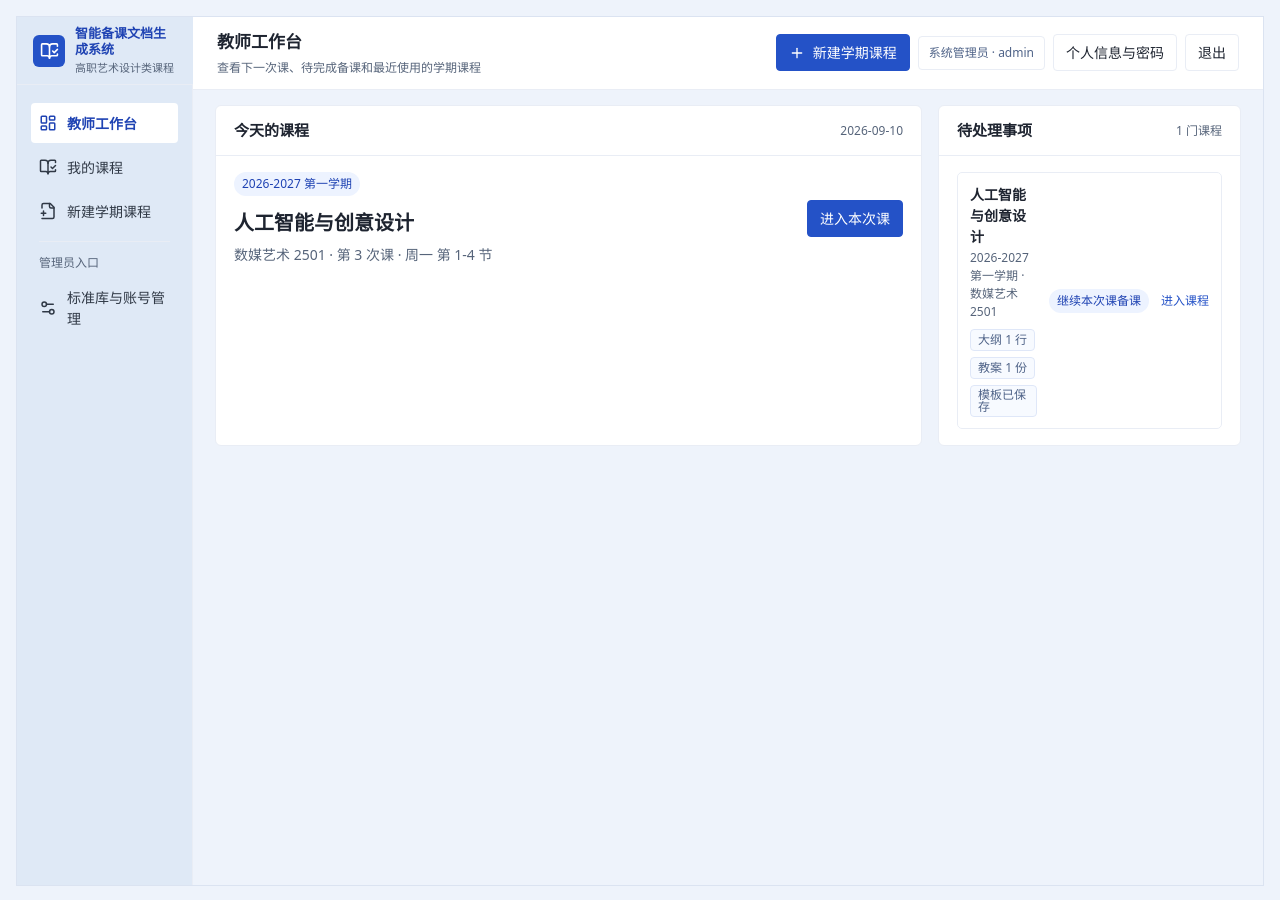
Test case: App › changes the current user's password
Click the button "个人信息与密码". click: coordinates (1115, 53)
box: [1053, 34, 1177, 71]
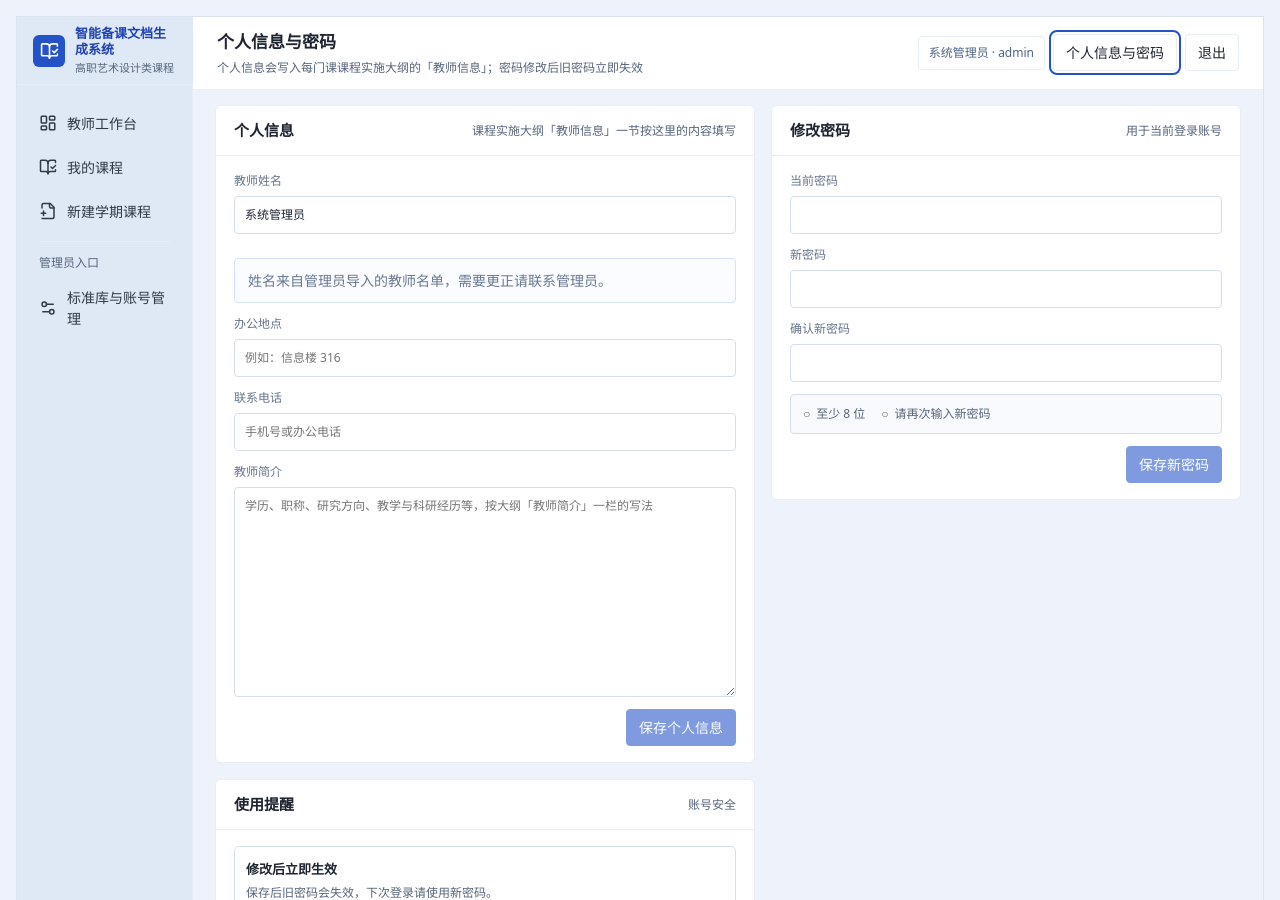
Type "Admin@2026!" into the password field labelled "当前密码". click: coordinates (1006, 215)
box: [790, 196, 1222, 234]
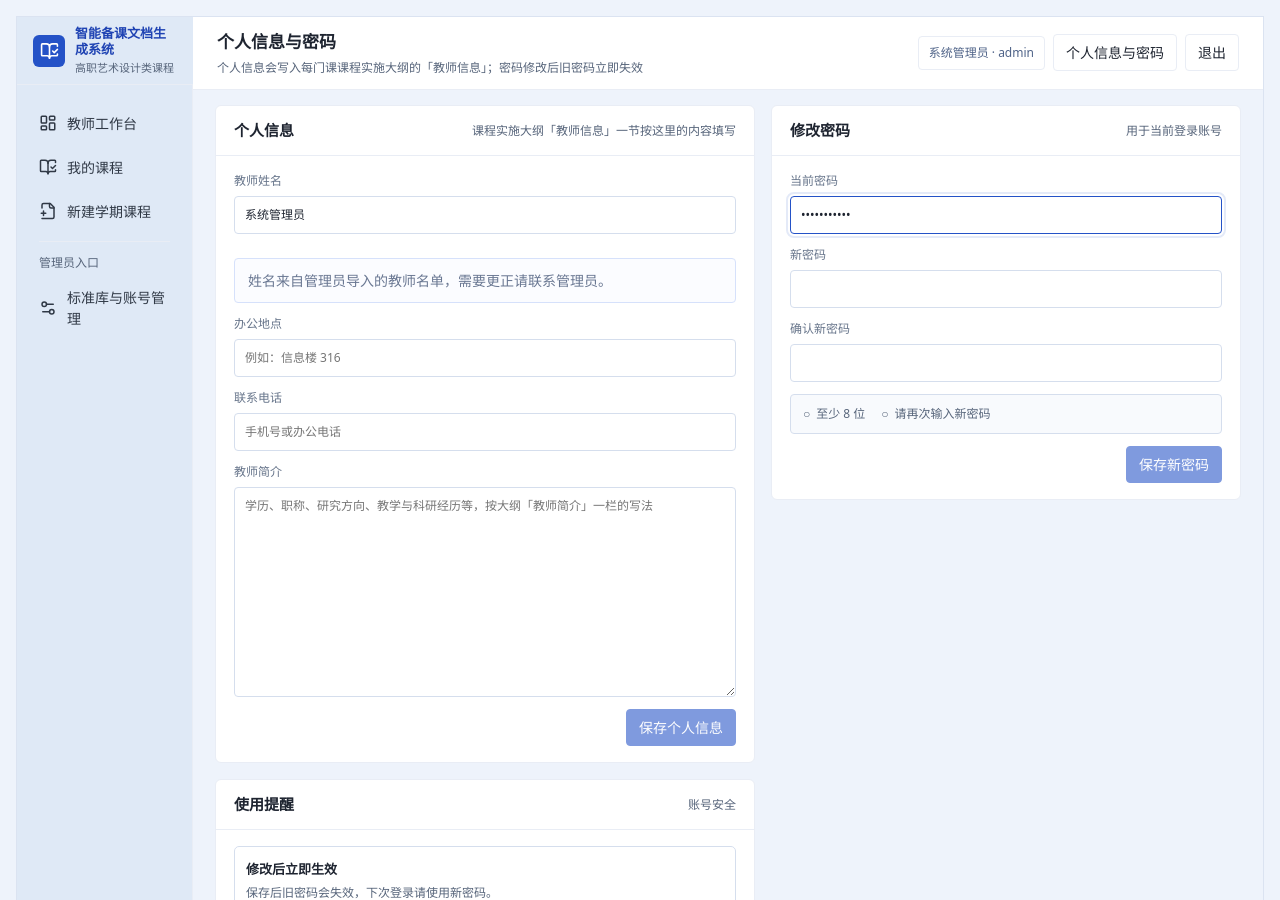
Type "Changed@2026!" into the password field labelled "新密码". click: coordinates (1006, 289)
box: [790, 270, 1222, 308]
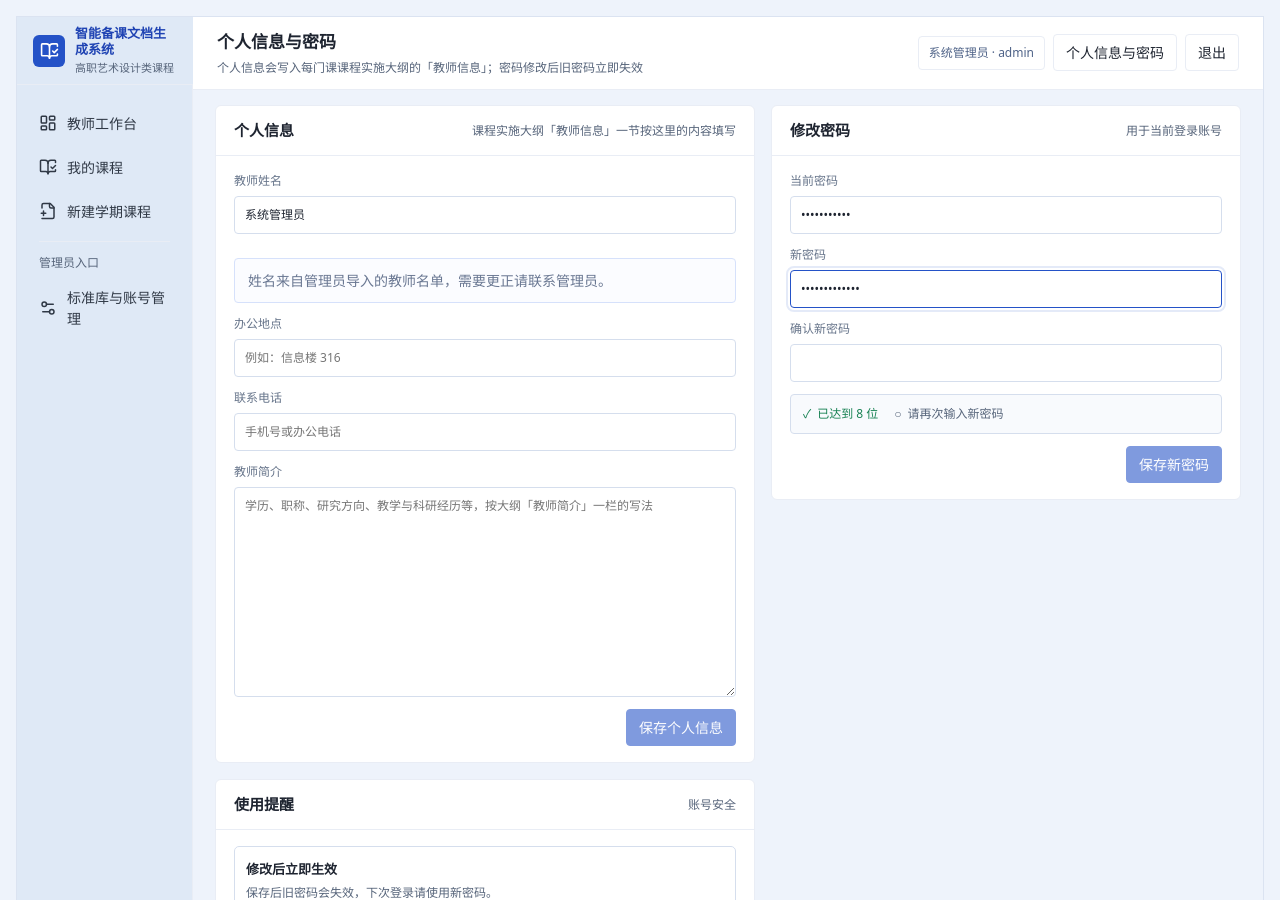
Type "Changed@2026!" into the password field labelled "确认新密码". click: coordinates (1006, 363)
box: [790, 344, 1222, 382]
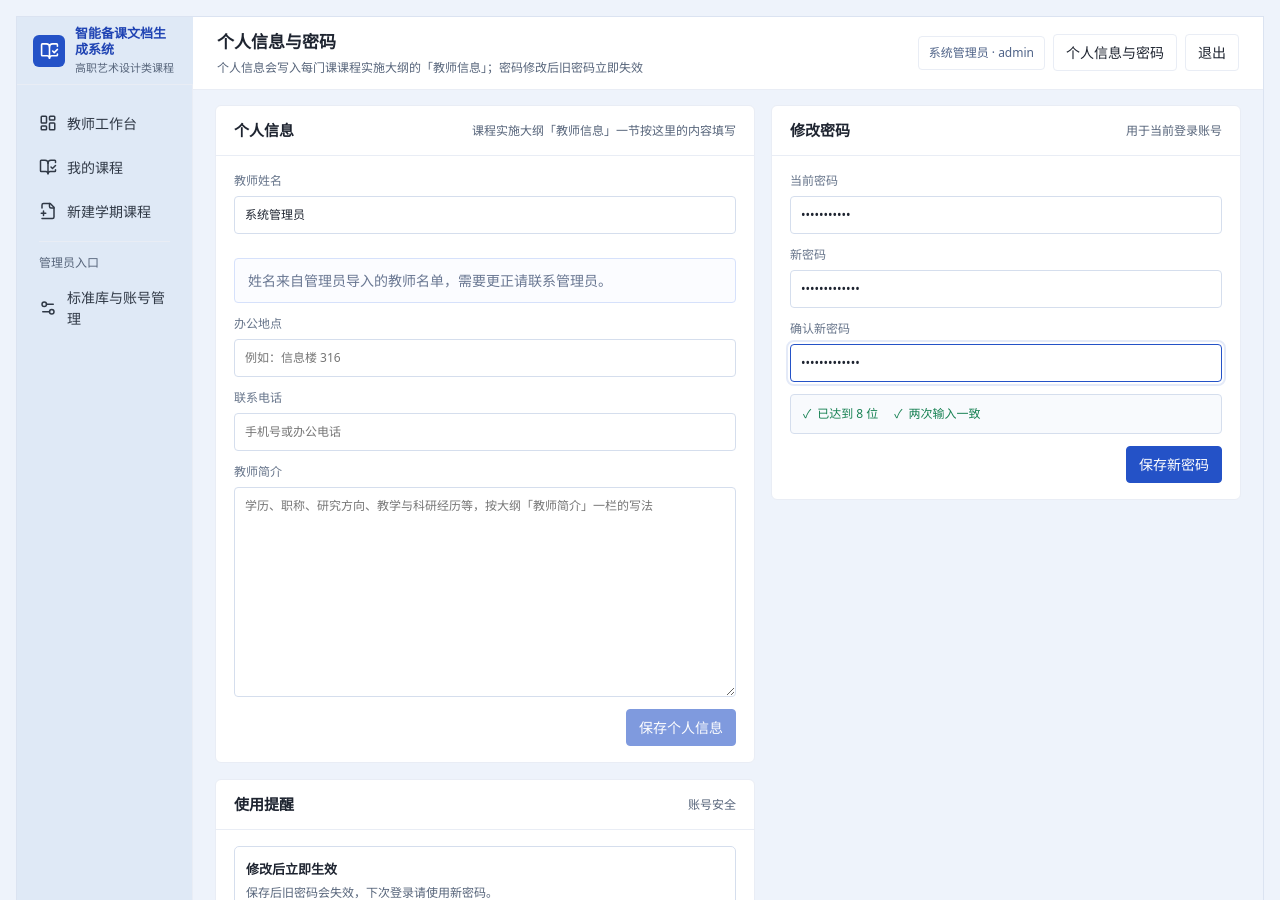
Click the button "保存新密码". click: coordinates (1174, 464)
box: [1126, 446, 1222, 483]
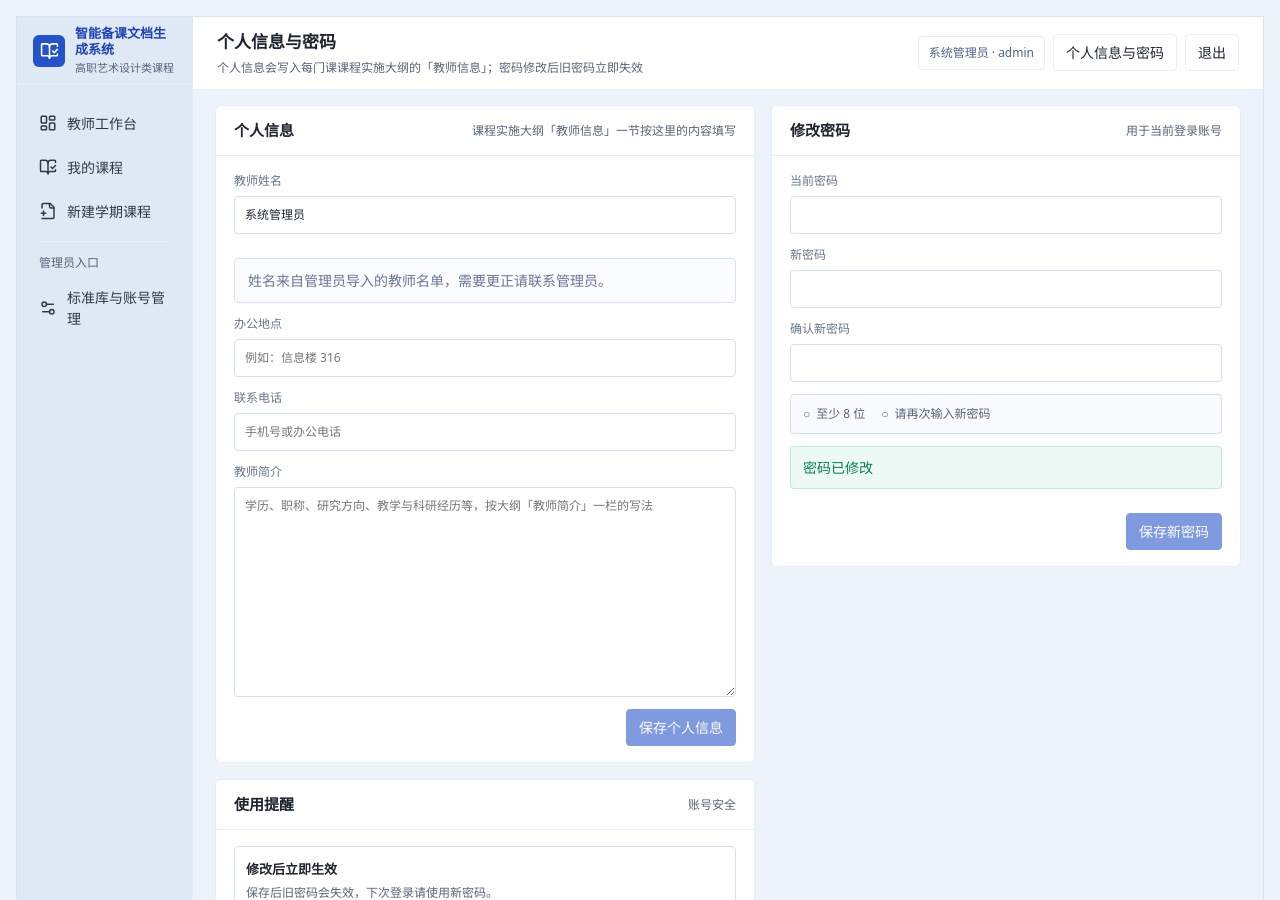
Expected: the text "密码已修改" is shown, [790, 446, 1222, 489]
